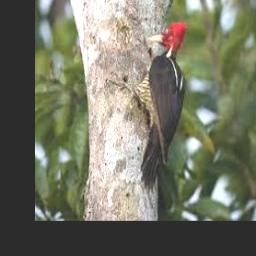Woodpecker: (109, 21, 188, 190)
